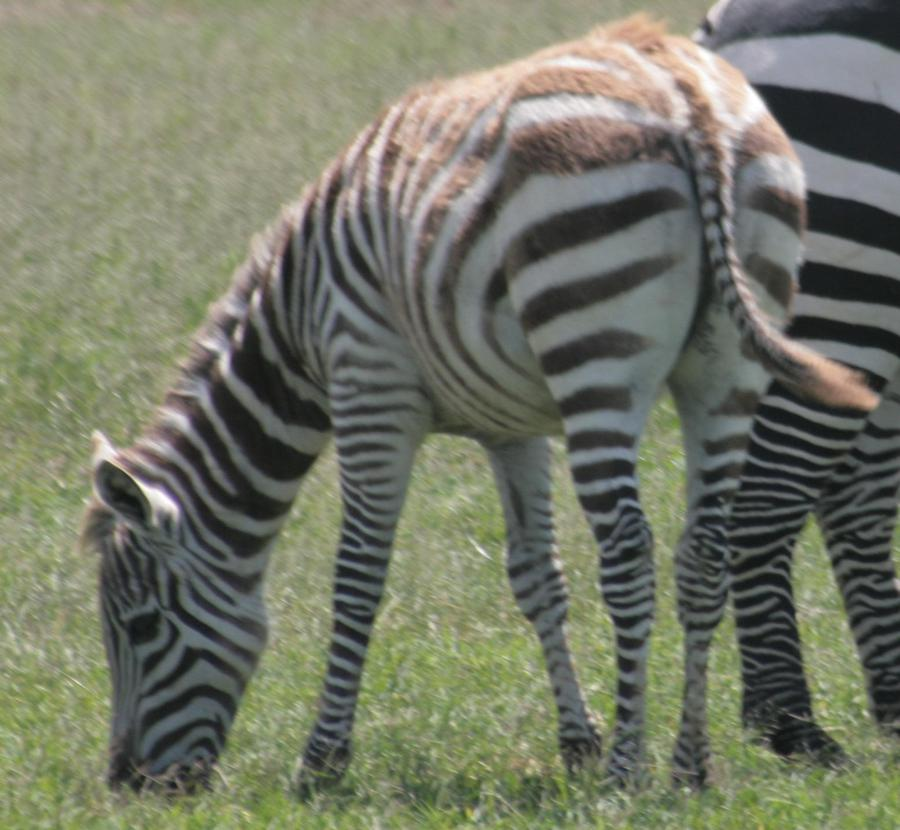zebra_plains: (253, 119, 699, 478)
